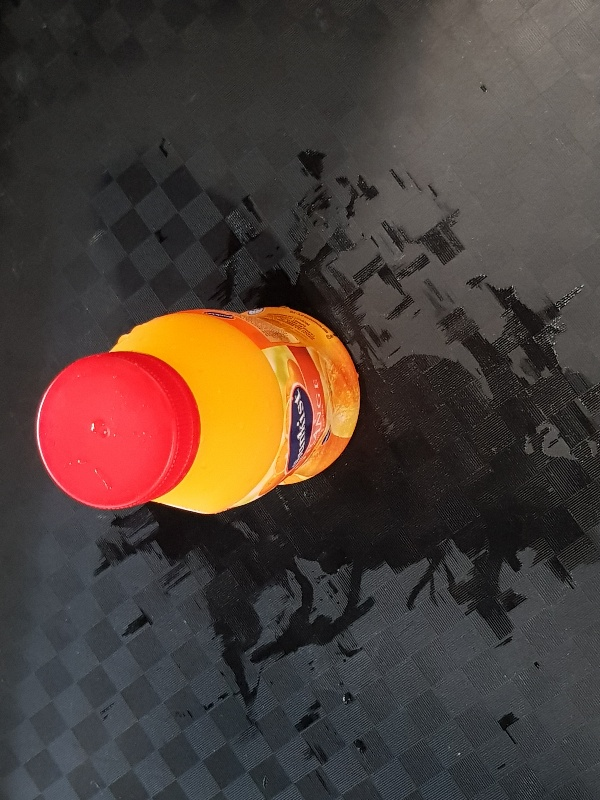Sunkist Orange Juice Drink: (36, 305, 360, 516)
